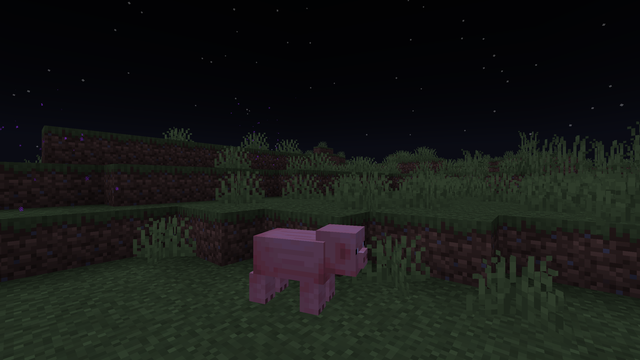cochons: (250, 224, 343, 323)
